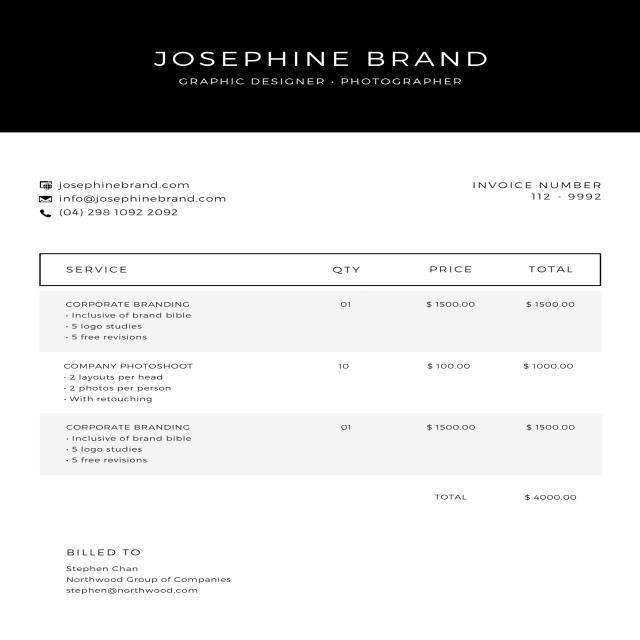paragraph: (147, 50, 493, 91), (62, 546, 233, 598), (35, 177, 228, 223), (469, 174, 607, 207)
table: (38, 253, 602, 504)
